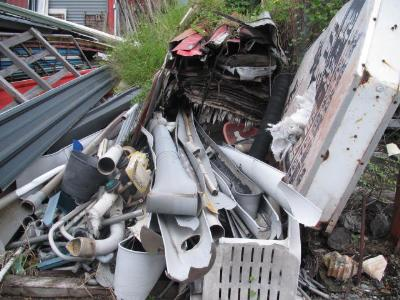bucket: (59, 150, 109, 205)
